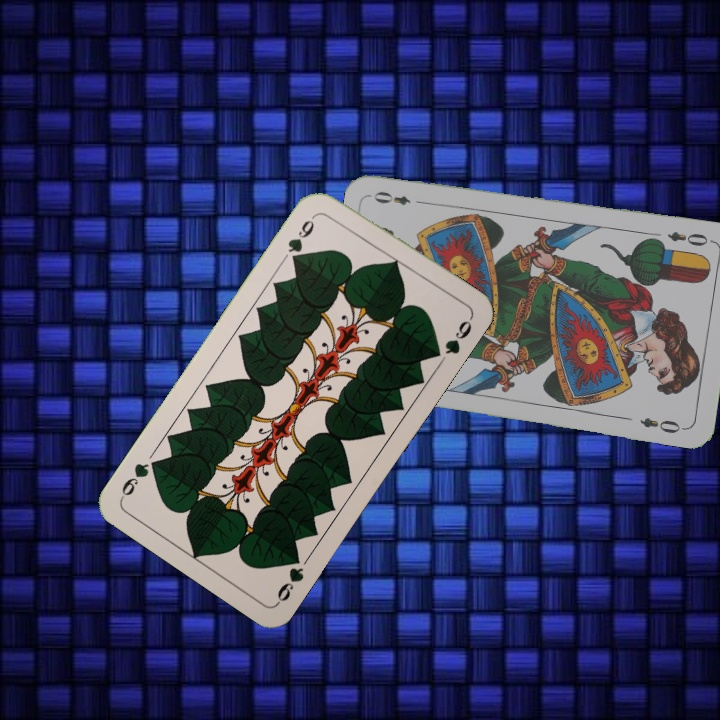EO: (663, 227, 716, 249)
G9: (283, 210, 320, 266), (273, 548, 307, 607)
